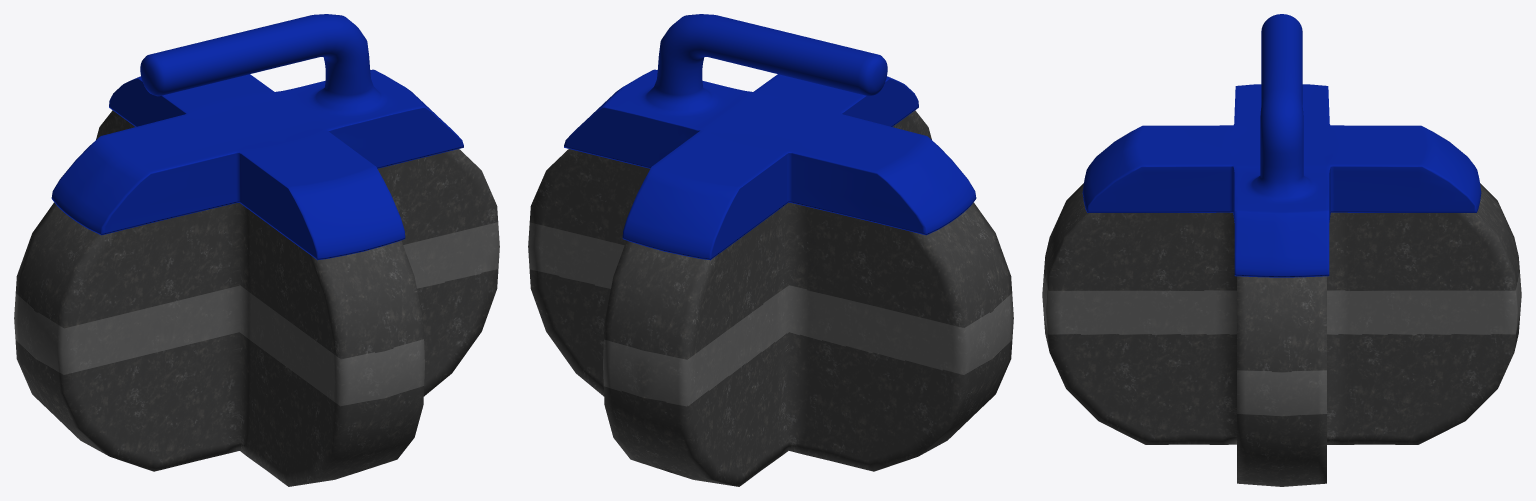
File: X_prop.glb
3 renders of one model, left to right at view 1: azimuth 30°, elevation 25°; view 2: azimuth 150°, elevation 25°; view 3: azimuth 270°, elevation 25°, orthographic. The views are drawn at different scales.
Visible parts, largest first — view 1: Xcurling_Stone_Low_Poly, XLid_low_poly; view 2: Xcurling_Stone_Low_Poly, XLid_low_poly; view 3: Xcurling_Stone_Low_Poly, XLid_low_poly.
Boxes of the visible parts, x1,y1,x2,y2 form: Xcurling_Stone_Low_Poly: (14, 110, 499, 486); XLid_low_poly: (51, 14, 463, 260); Xcurling_Stone_Low_Poly: (528, 110, 1013, 486); XLid_low_poly: (564, 14, 976, 260); Xcurling_Stone_Low_Poly: (1042, 183, 1521, 486); XLid_low_poly: (1082, 14, 1481, 277).
Bounding box in the file's own units: 3.28 × 2.76 × 3.28.
2 materials, 2 textured.
